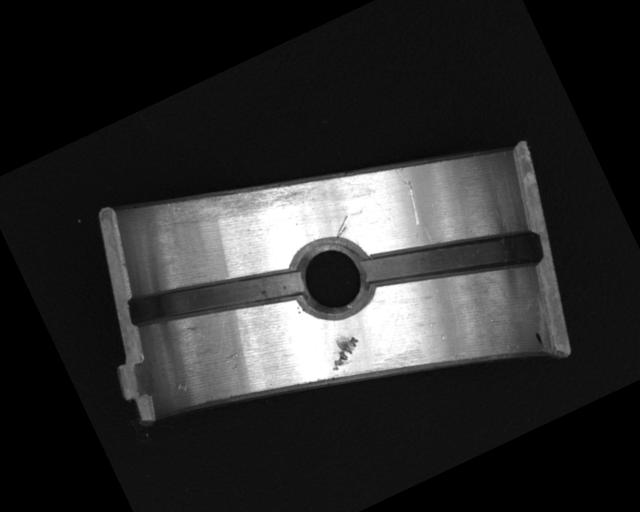blot: (532, 330, 546, 349)
bruise: (319, 328, 366, 372), (221, 345, 245, 364), (173, 380, 190, 395)
gap: (360, 189, 543, 329), (124, 231, 305, 359)
hole: (280, 226, 382, 327)
nick: (389, 164, 428, 227), (329, 215, 353, 237)
scratch: (159, 139, 325, 260)
